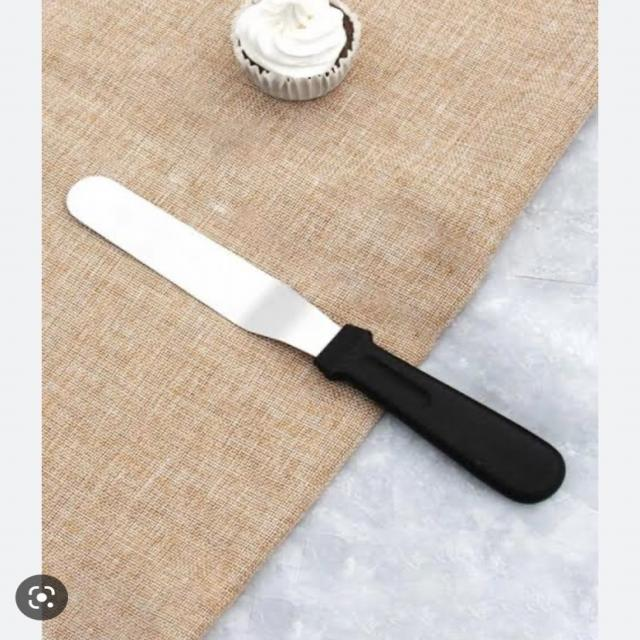Knife: (58, 148, 588, 516)
